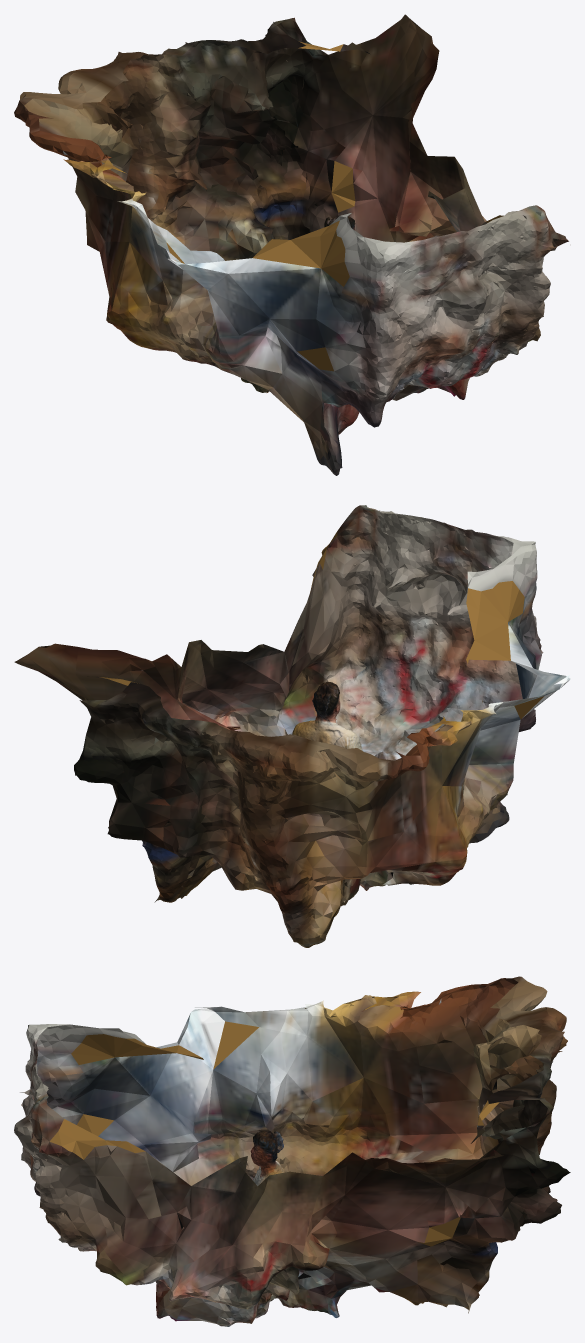
File: texturedMesh.obj
3 renders of one model, top to bottom at view 1: azimuth 30°, elevation 25°; view 2: azimuth 150°, elevation 25°; view 3: azimuth 270°, elevation 25°, orthographic. The views are drawn at different scales.
Size of the model in its own units: 5.27 by 3.26 by 6.69.
1 material, 1 textured.
